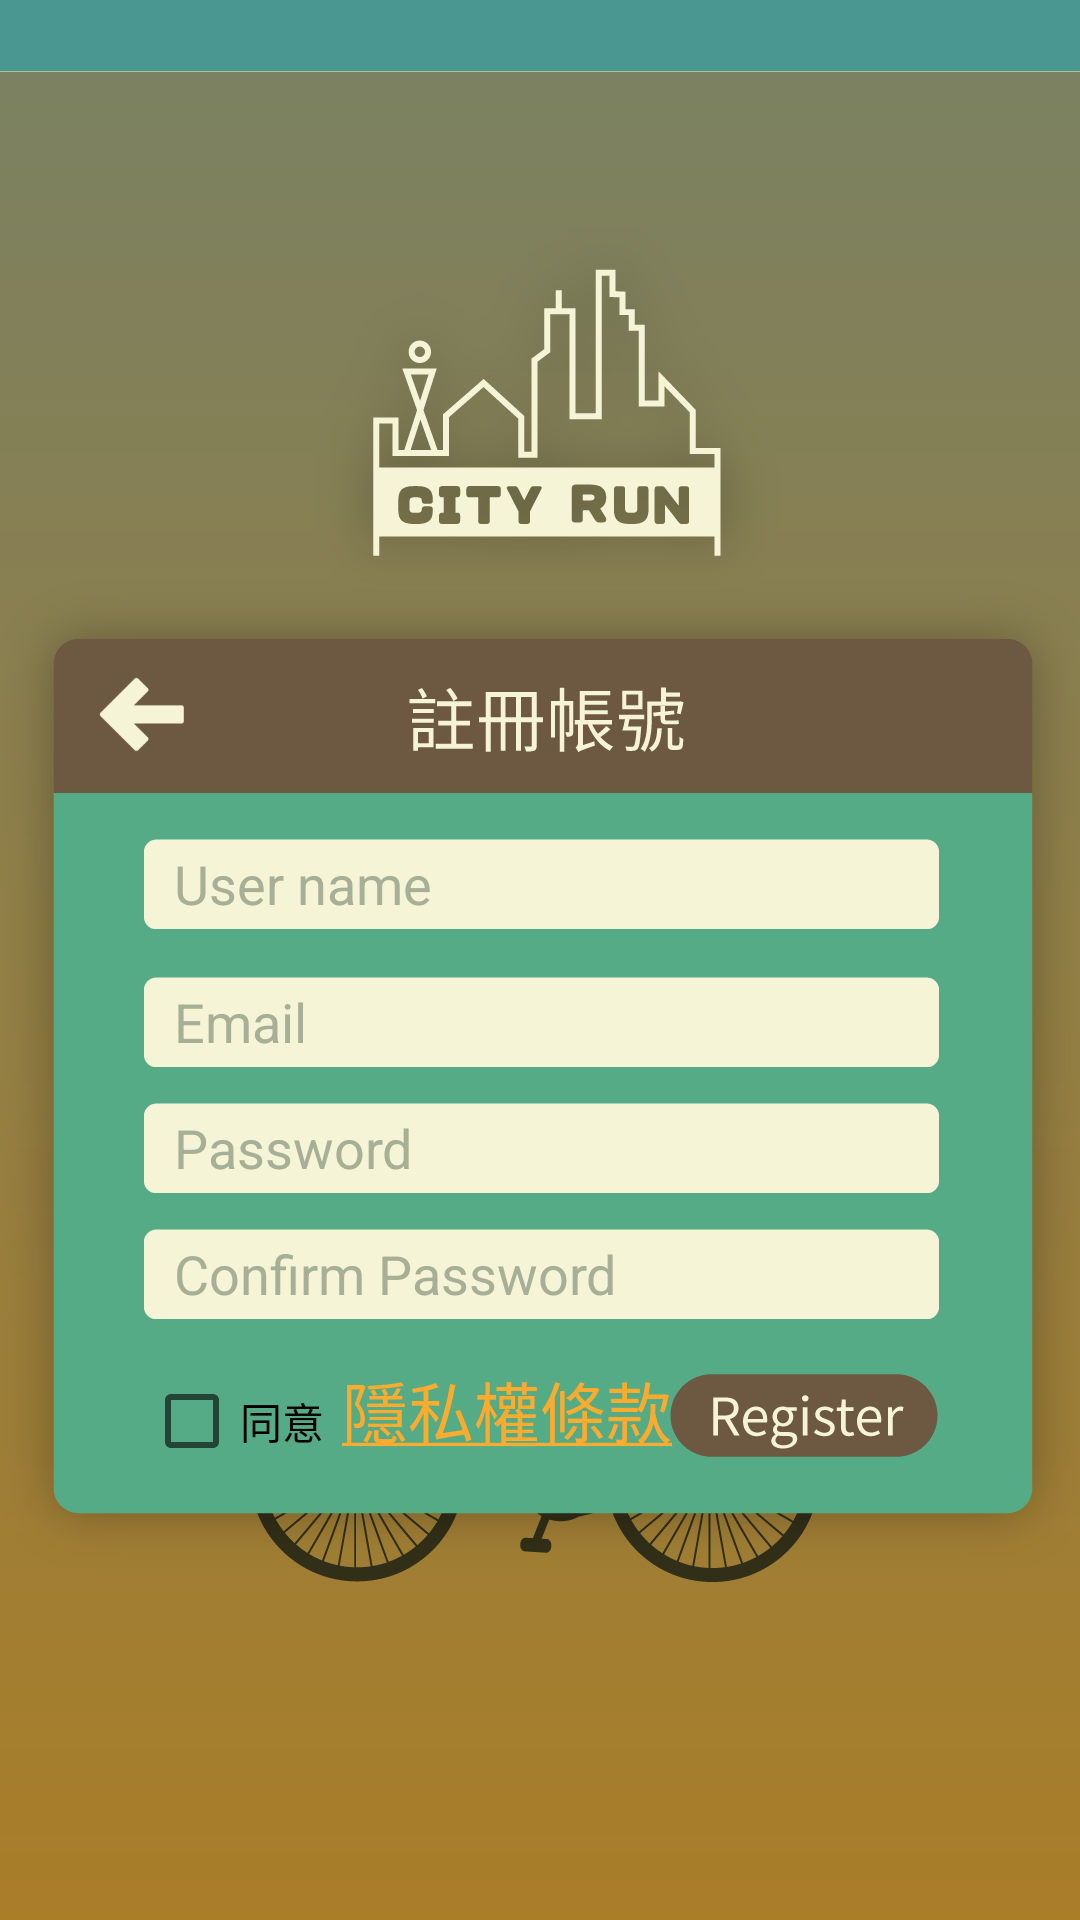

Point at icon controls on the screen. Image size 1080px x 1920px, points as [x,y].
all back arrow: [142,714]
